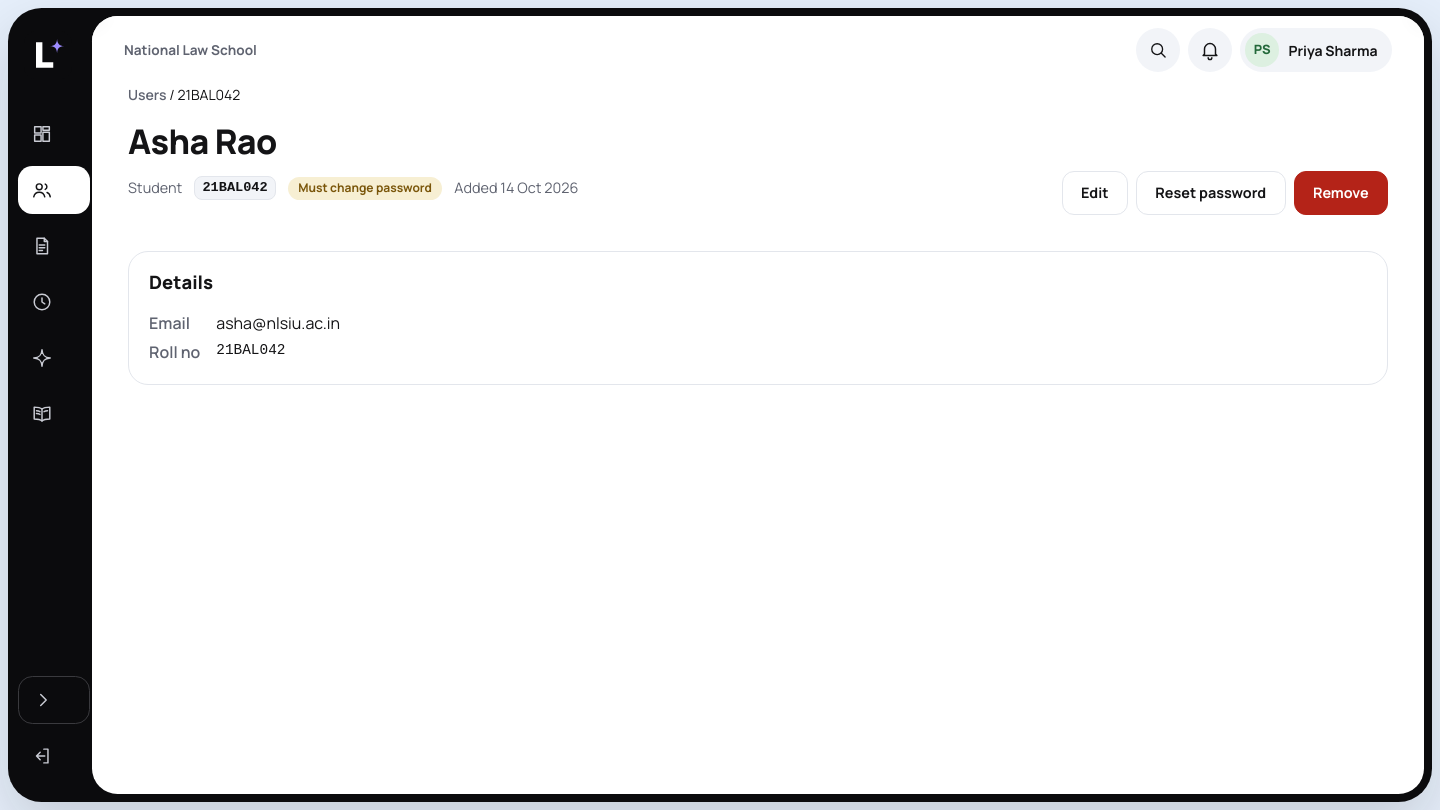
Test: remove user › enables Remove only once the exact login ID is typed, then deletes and returns to the list
Click the button "Remove" at (1341, 193), box [1294,171,1388,215]
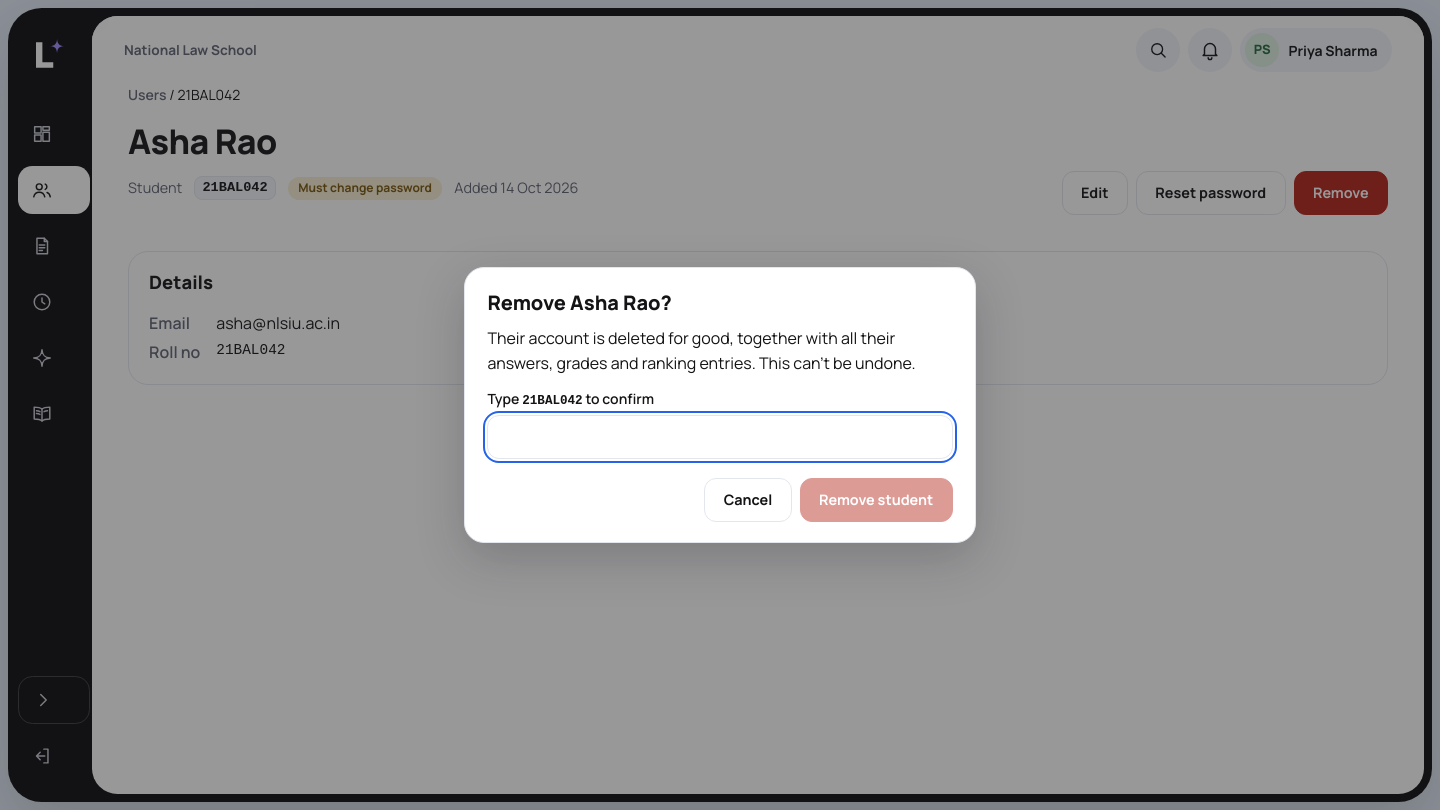
Check: the text "together with all their answers, grades and ranking entries" is shown, box [487,327,916,374]
Type "21bal042" into the field labelled "Type 21BAL042 to confirm" at (720, 437), box [487,415,953,459]
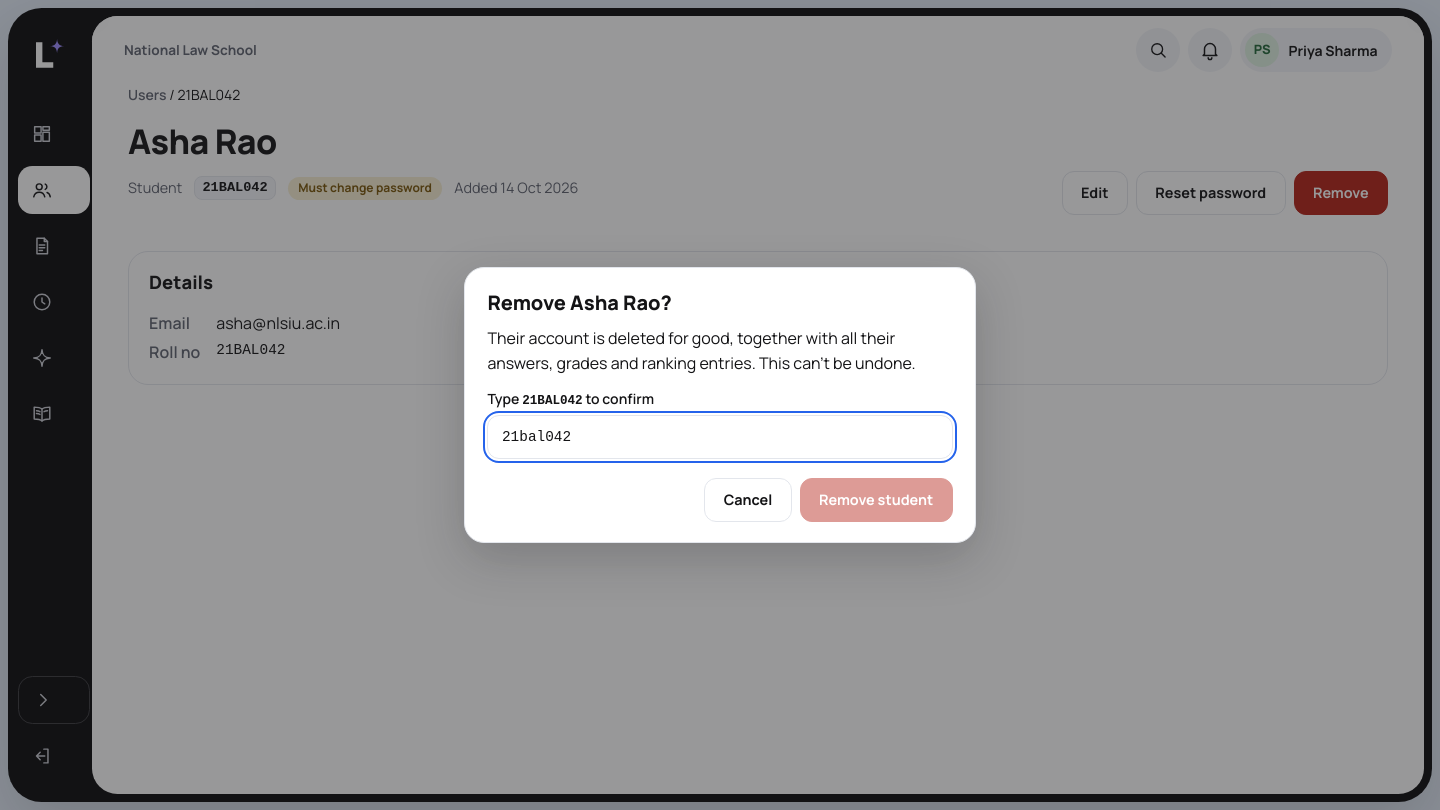
Check: the button "Remove student" is disabled, box [800,478,953,522]
Replace the text in the field labelled "Type 21BAL042 to confirm" with "21BAL04" at (720, 437), box [487,415,953,459]
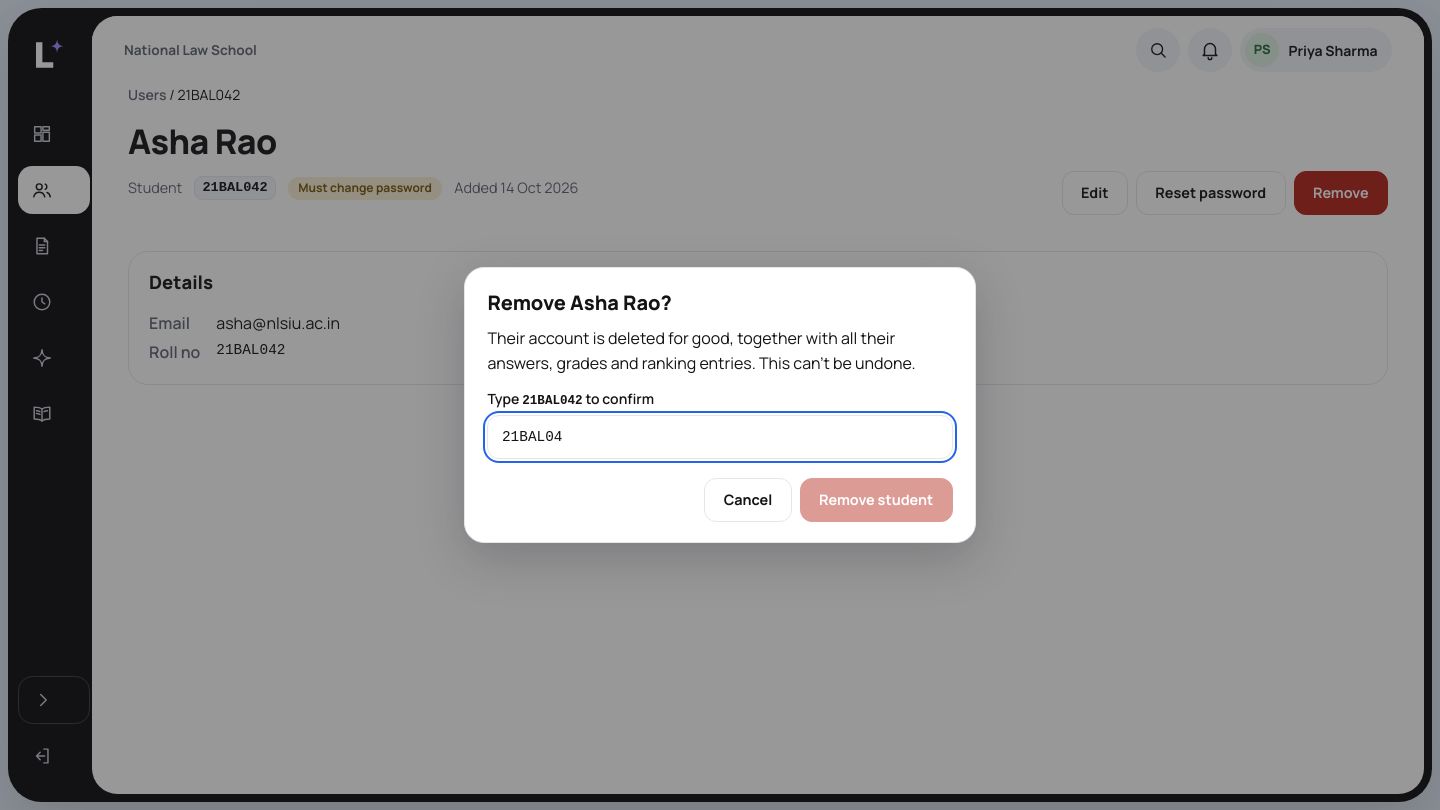
Check: the button "Remove student" is disabled, box [800,478,953,522]
Type "2" into the field labelled "Type 21BAL042 to confirm" at (720, 437), box [487,415,953,459]
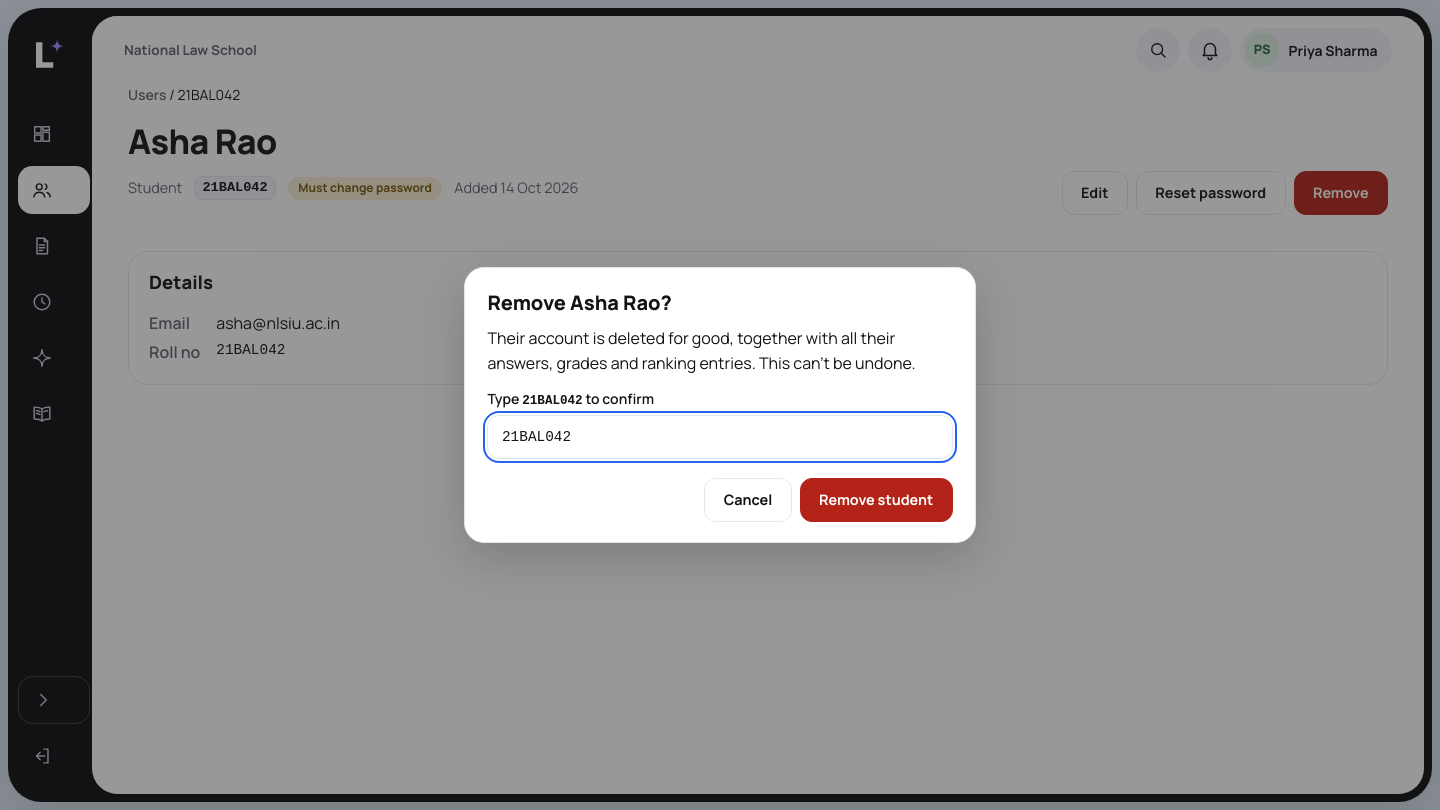
Check: the button "Remove student" is enabled
Click the button "Remove student" at (876, 500), box [800,478,953,522]
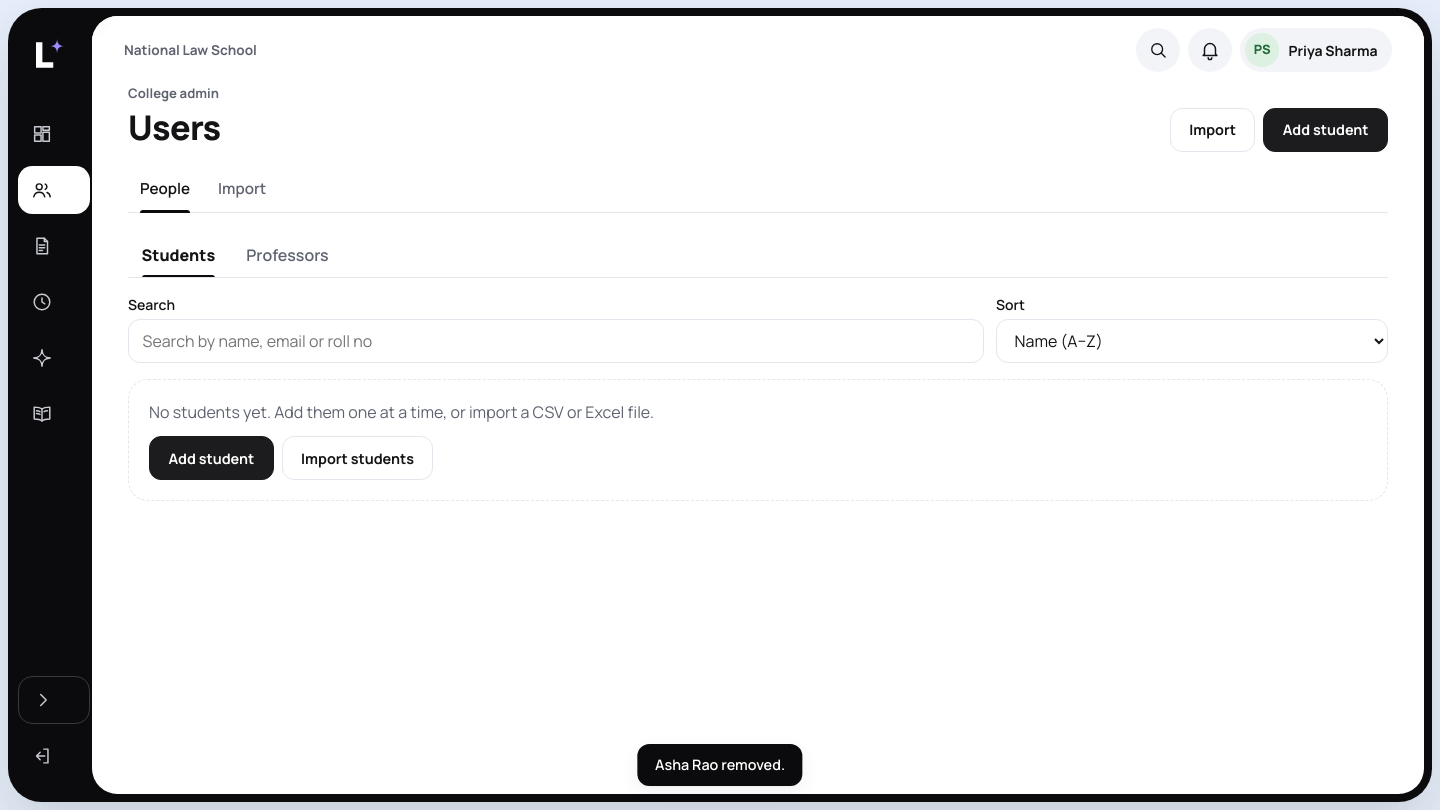
Check: the text "Asha Rao removed." is shown, box [637,744,803,786]
